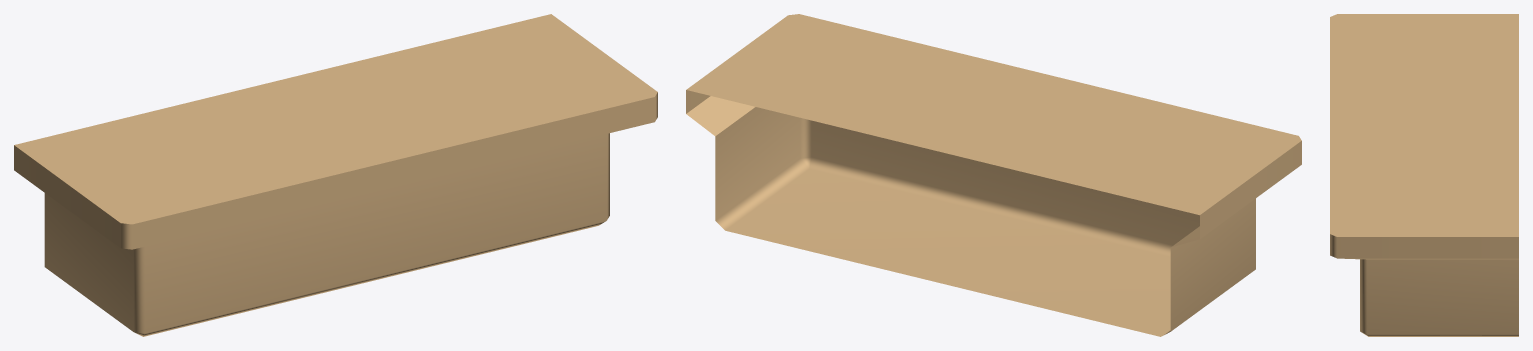
File: DBK_Trim_C_Cap.fbx
3 renders of one model, left to right at view 1: azimuth 30°, elevation 25°; view 2: azimuth 150°, elevation 25°; view 3: azimuth 270°, elevation 25°, orthographic. The views are drawn at different scales.
Parts seen in each view (by area): view 1: DBK_Trim_C_Cap; view 2: DBK_Trim_C_Cap; view 3: DBK_Trim_C_Cap.
Boxes of the visible parts, x1,y1,x2,y2 form: DBK_Trim_C_Cap: (14,14,657,336); DBK_Trim_C_Cap: (686,14,1301,336); DBK_Trim_C_Cap: (1330,14,1518,336).
Size of the model in its own units: 65.84 by 16.08 by 23.54.
